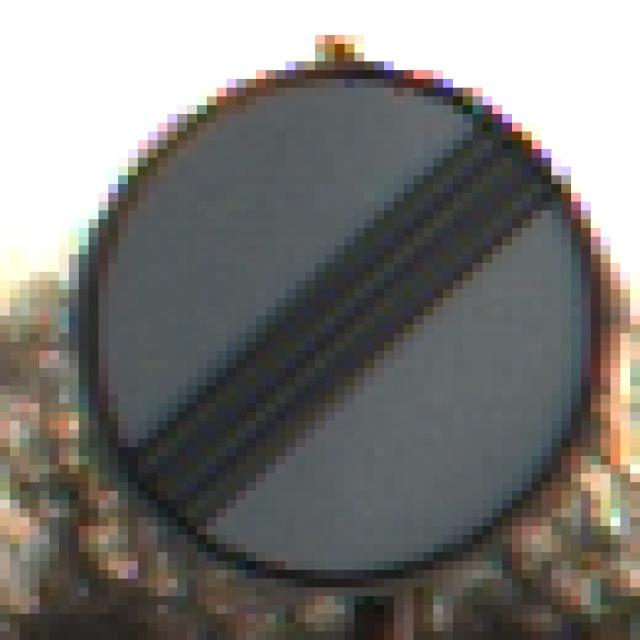restriction ends: (80, 68, 595, 575)
